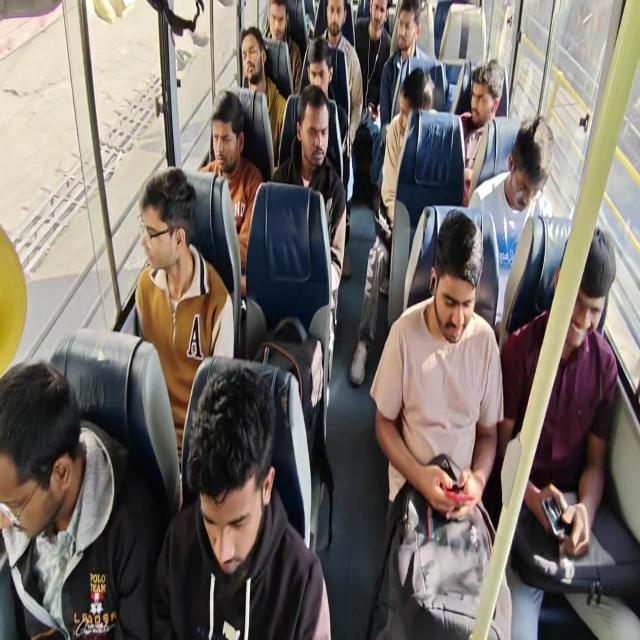person: (2, 1, 633, 638), (368, 208, 512, 638), (496, 224, 619, 638), (150, 362, 332, 639), (0, 359, 158, 639), (133, 166, 234, 478), (350, 67, 434, 386), (271, 84, 347, 380), (468, 115, 554, 334), (198, 90, 264, 296), (300, 36, 353, 278), (377, 66, 434, 232), (378, 0, 434, 145), (458, 58, 504, 204), (239, 26, 287, 165), (354, 0, 391, 126), (263, 0, 302, 94)
